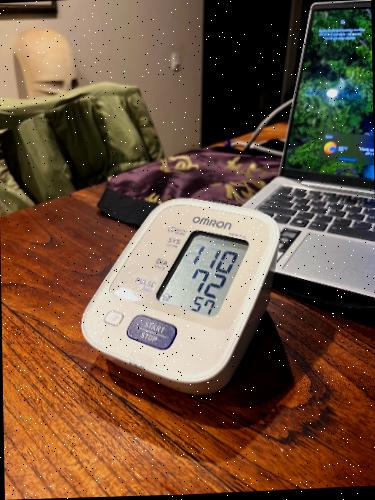bpm: (151, 212, 258, 331)
